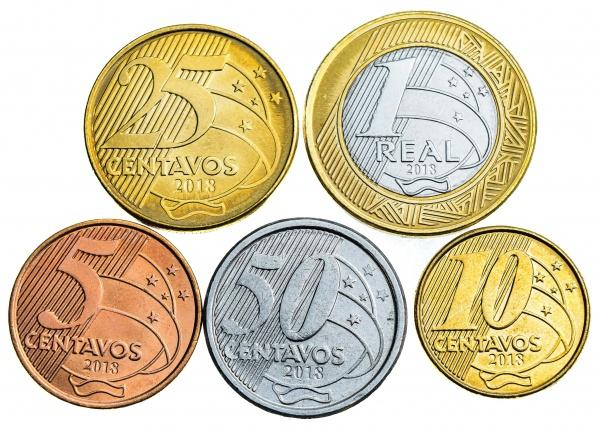1 real: (302, 7, 545, 247)
10 cent: (418, 214, 596, 422)
25 cent: (69, 16, 305, 237)
5 cent: (5, 217, 206, 417)
50 cent: (204, 215, 415, 425)
